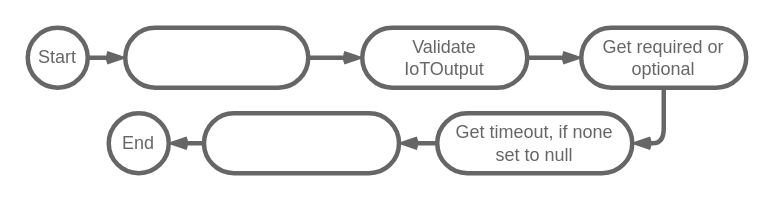
The diagram is 774 pixels wide and 201 high, and some of its shapes have lost their labels. The shapes that lost their labels are listed below. From the top down, each one's centre as x and y in pixels, then its label:
point (216, 57): Create empty array for components
point (300, 142): Get count, if none set to null
